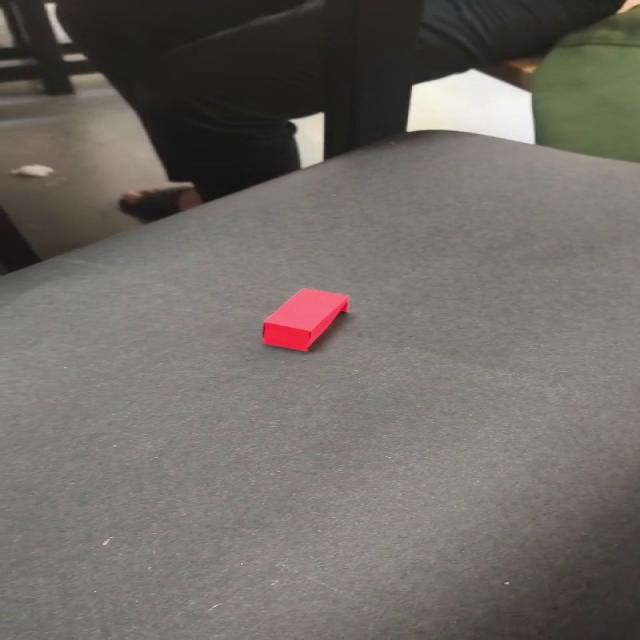red block: (260, 287, 351, 352)
